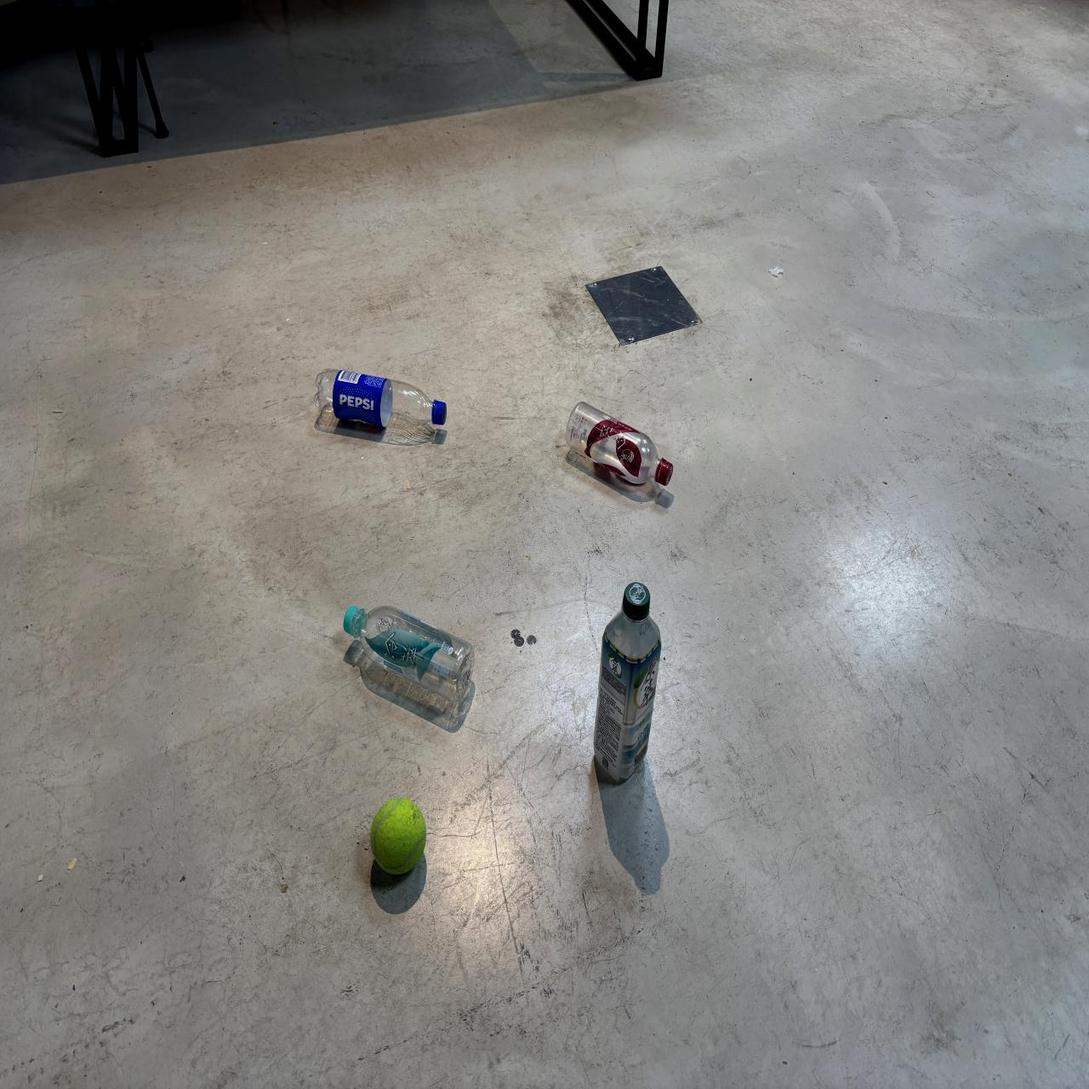plastic-bottle: (595, 583, 660, 783)
tennisball: (371, 799, 425, 875)
